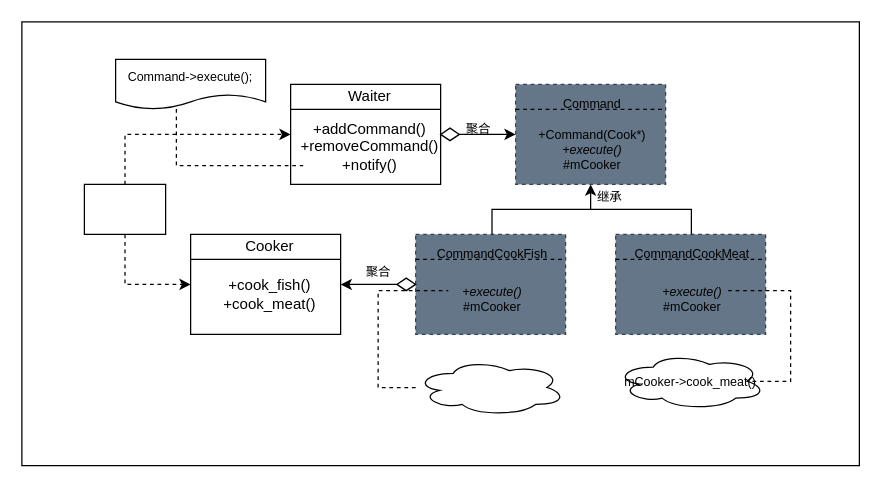
This 881x488 diagram has some shape labels left out. The box of each missing label's shape, as (x1, y1, x2, y2) in pixels:
mCooker->cook_fish(): (414, 358, 566, 416)
客户端: (83, 183, 166, 234)
